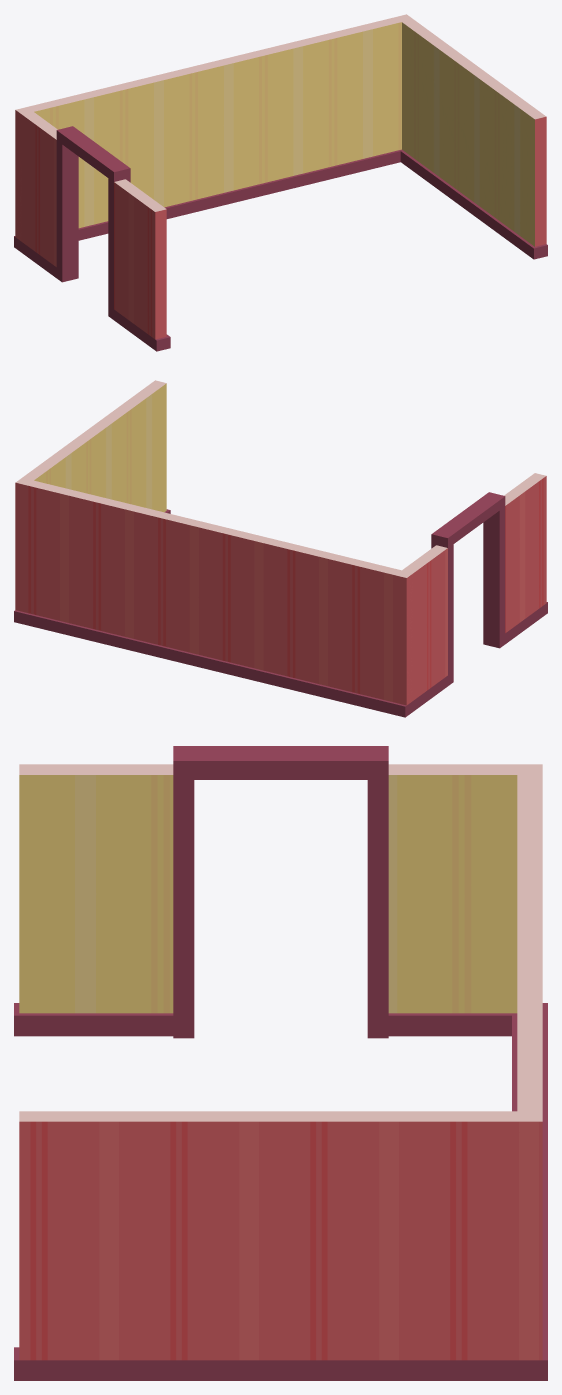
File: Room01_Wall_OX_geo.fbx
3 renders of one model, top to bottom at view 1: azimuth 30°, elevation 25°; view 2: azimuth 150°, elevation 25°; view 3: azimuth 270°, elevation 25°, orthographic. The views are drawn at different scales.
Parts seen in each view (by area): view 1: Room01_Wall_OX_geo; view 2: Room01_Wall_OX_geo; view 3: Room01_Wall_OX_geo.
Boxes of the visible parts, <box> form: Room01_Wall_OX_geo: <box>14,14,547,351</box>; Room01_Wall_OX_geo: <box>14,380,547,717</box>; Room01_Wall_OX_geo: <box>14,746,547,1380</box>.
Bounding box in the file's own units: 6.03 × 3.81 × 2.18.
